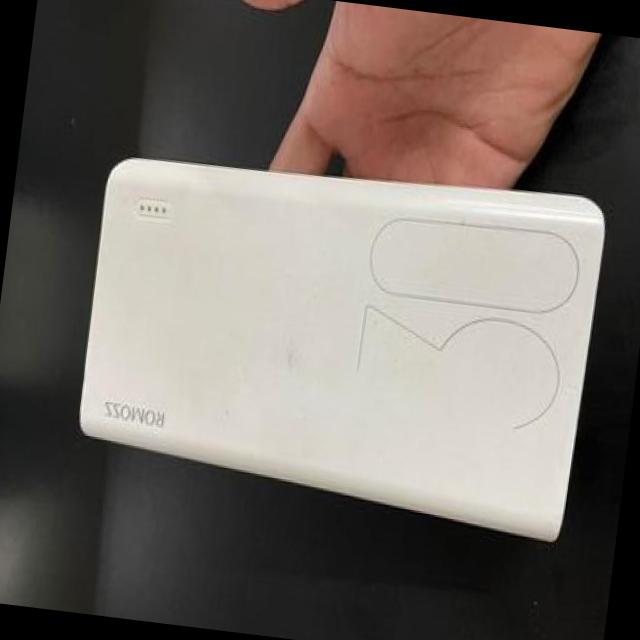power_bank: (49, 110, 624, 554)
